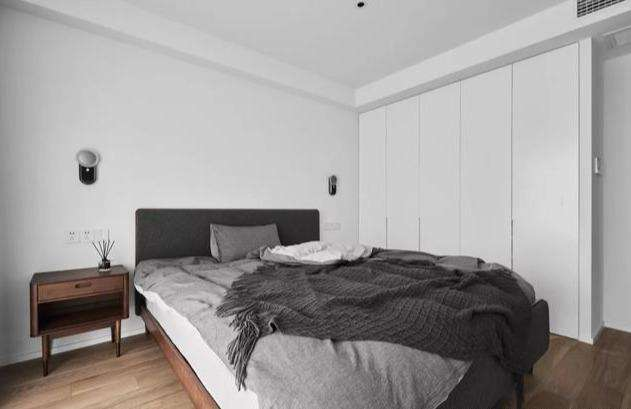床: (134, 249, 560, 399)
枕头: (210, 222, 294, 262)
灯: (74, 147, 102, 189), (326, 170, 340, 201), (356, 2, 371, 10)
